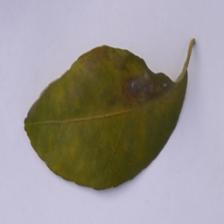black spot: (114, 52, 170, 104)
